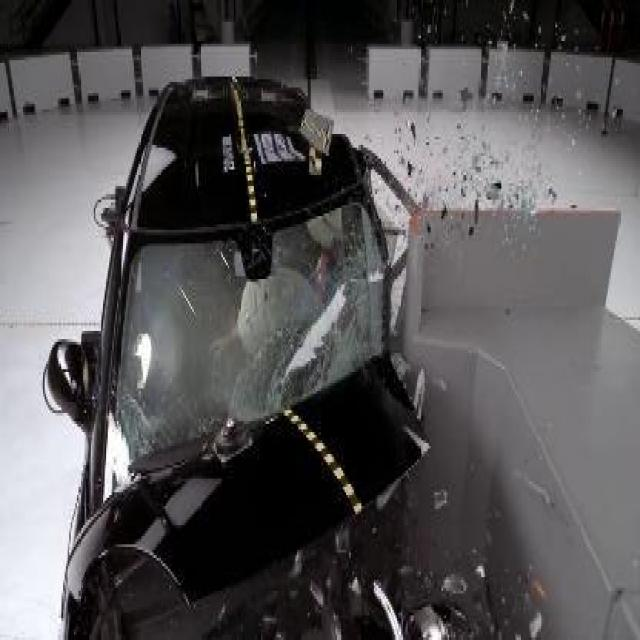accident: (44, 52, 536, 640)
